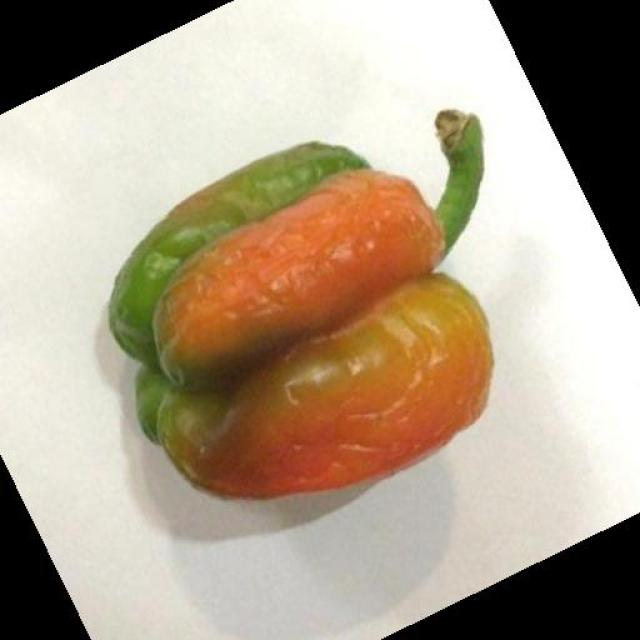Stale_Capsicum: (116, 132, 486, 525)
